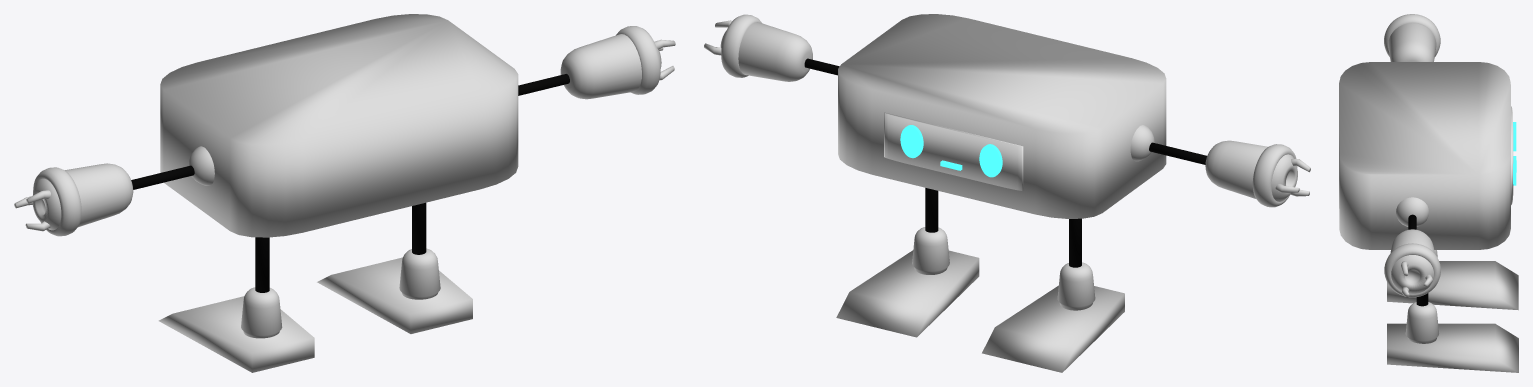
The model's file is body.fbx.
3 views of the same model, side by side, from view 1: azimuth 30°, elevation 25°; view 2: azimuth 150°, elevation 25°; view 3: azimuth 270°, elevation 25° (orthographic). The views are drawn at different scales.
Visible parts, largest first — view 1: Icosphere.131, Icosphere.154, Icosphere.132, Icosphere.142, Icosphere.149, Icosphere.155, Icosphere.130, Icosphere.150, Icosphere.144, Icosphere.141, Icosphere.139, Icosphere.140 (+2 smaller); view 2: Icosphere.131, Icosphere.132, Icosphere.154, Icosphere.133, Icosphere.142, Icosphere.149, Icosphere.155, Icosphere.130, Icosphere.150, Icosphere.144, Icosphere.139, Icosphere.141 (+4 smaller); view 3: Icosphere.131, Icosphere.132, Icosphere.154, Icosphere.142, Icosphere.149, Icosphere.130, Icosphere.144, Icosphere.150, Icosphere.138, Icosphere.133.
Boxes of the visible parts, x1,y1,x2,y2 form: Icosphere.131: (160, 14, 518, 237); Icosphere.154: (158, 296, 314, 372); Icosphere.132: (317, 257, 472, 333); Icosphere.142: (560, 34, 661, 99); Icosphere.149: (32, 163, 133, 230); Icosphere.155: (241, 287, 282, 338); Icosphere.130: (399, 248, 440, 299); Icosphere.150: (33, 167, 81, 236); Icosphere.144: (616, 26, 660, 94); Icosphere.141: (255, 237, 269, 292); Icosphere.139: (188, 146, 214, 185); Icosphere.140: (412, 202, 426, 254); Icosphere.131: (838, 14, 1166, 218); Icosphere.132: (836, 250, 979, 337); Icosphere.154: (982, 285, 1124, 372); Icosphere.133: (884, 112, 1023, 190); Icosphere.142: (720, 22, 812, 81); Icosphere.149: (1205, 140, 1297, 201); Icosphere.155: (1057, 262, 1095, 310); Icosphere.130: (912, 227, 949, 274); Icosphere.150: (1252, 144, 1297, 207); Icosphere.144: (721, 14, 761, 77); Icosphere.139: (1130, 125, 1154, 161); Icosphere.141: (1069, 218, 1081, 267); Icosphere.131: (1339, 62, 1510, 249); Icosphere.132: (1387, 323, 1518, 372); Icosphere.154: (1387, 261, 1518, 310); Icosphere.142: (1390, 229, 1434, 293); Icosphere.149: (1388, 23, 1436, 61); Icosphere.130: (1405, 302, 1438, 343); Icosphere.144: (1384, 243, 1440, 297); Icosphere.150: (1384, 14, 1440, 56); Icosphere.138: (1396, 197, 1429, 226); Icosphere.133: (1511, 106, 1513, 204).
Bounding box in the file's own units: 396 × 148 × 117.
